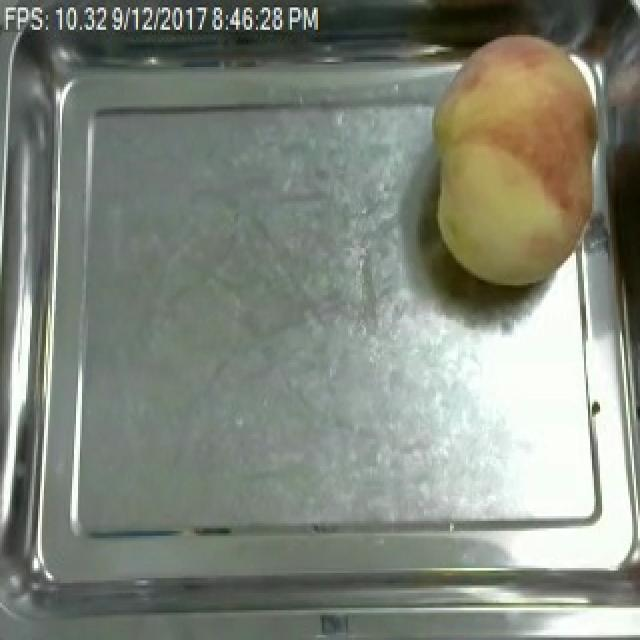Fruit: (416, 18, 618, 296)
